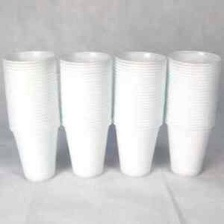glass: (165, 44, 223, 184), (1, 50, 61, 185), (108, 48, 168, 181), (55, 49, 114, 184)
